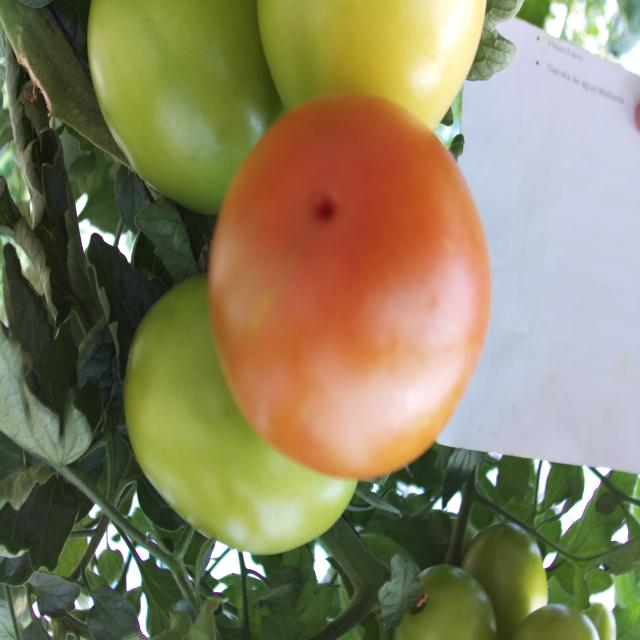sari: (212, 61, 492, 499)
